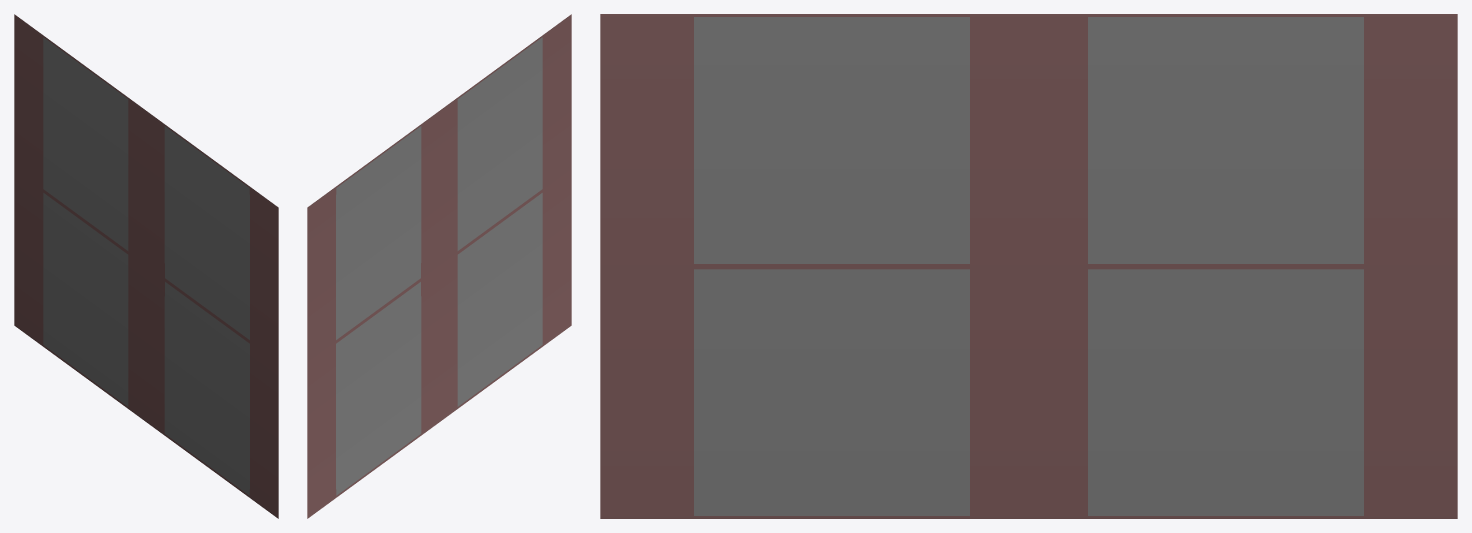
The model's file is PPA.FBX.
3 views of the same model, side by side, from view 1: azimuth 30°, elevation 25°; view 2: azimuth 150°, elevation 25°; view 3: azimuth 270°, elevation 25° (orthographic). The views are drawn at different scales.
Parts seen in each view (by area): view 1: PPA; view 2: PPA; view 3: PPA.
Part boxes in pixels (x1=…): PPA: x1=14, y1=14, x2=278, y2=518; PPA: x1=307, y1=14, x2=571, y2=518; PPA: x1=600, y1=14, x2=1457, y2=518.
Bounding box in the file's own units: 1.2 × 1369 × 2106.
